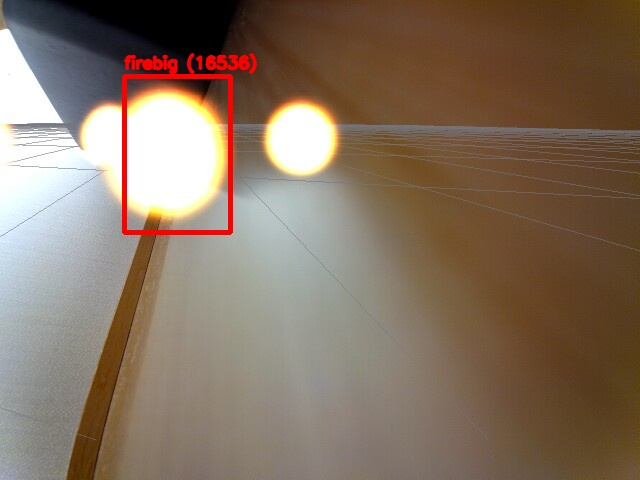firebig: (124, 76, 230, 232)
